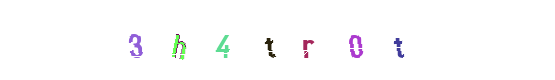0: (237, 0, 317, 80)
3: (161, 0, 241, 80)
4: (225, 0, 305, 80)
H: (214, 0, 294, 80)
R: (234, 0, 314, 80)
T: (230, 0, 310, 80), (358, 0, 438, 80)
